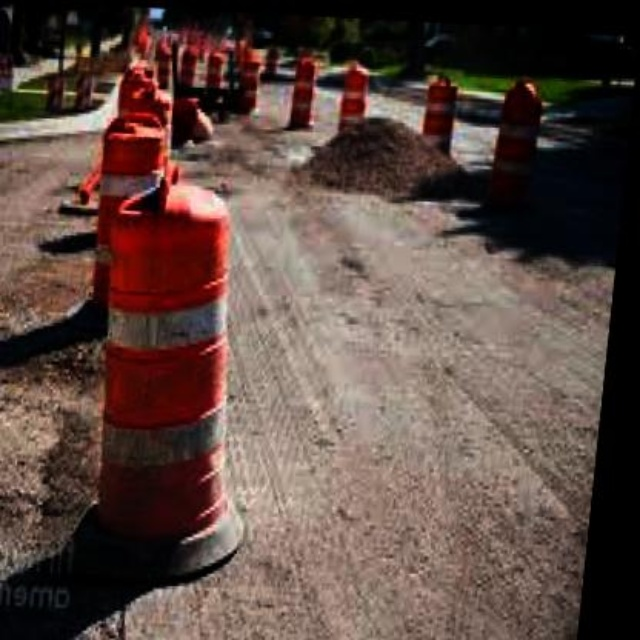obstacle: (77, 163, 263, 554), (494, 73, 548, 201)
